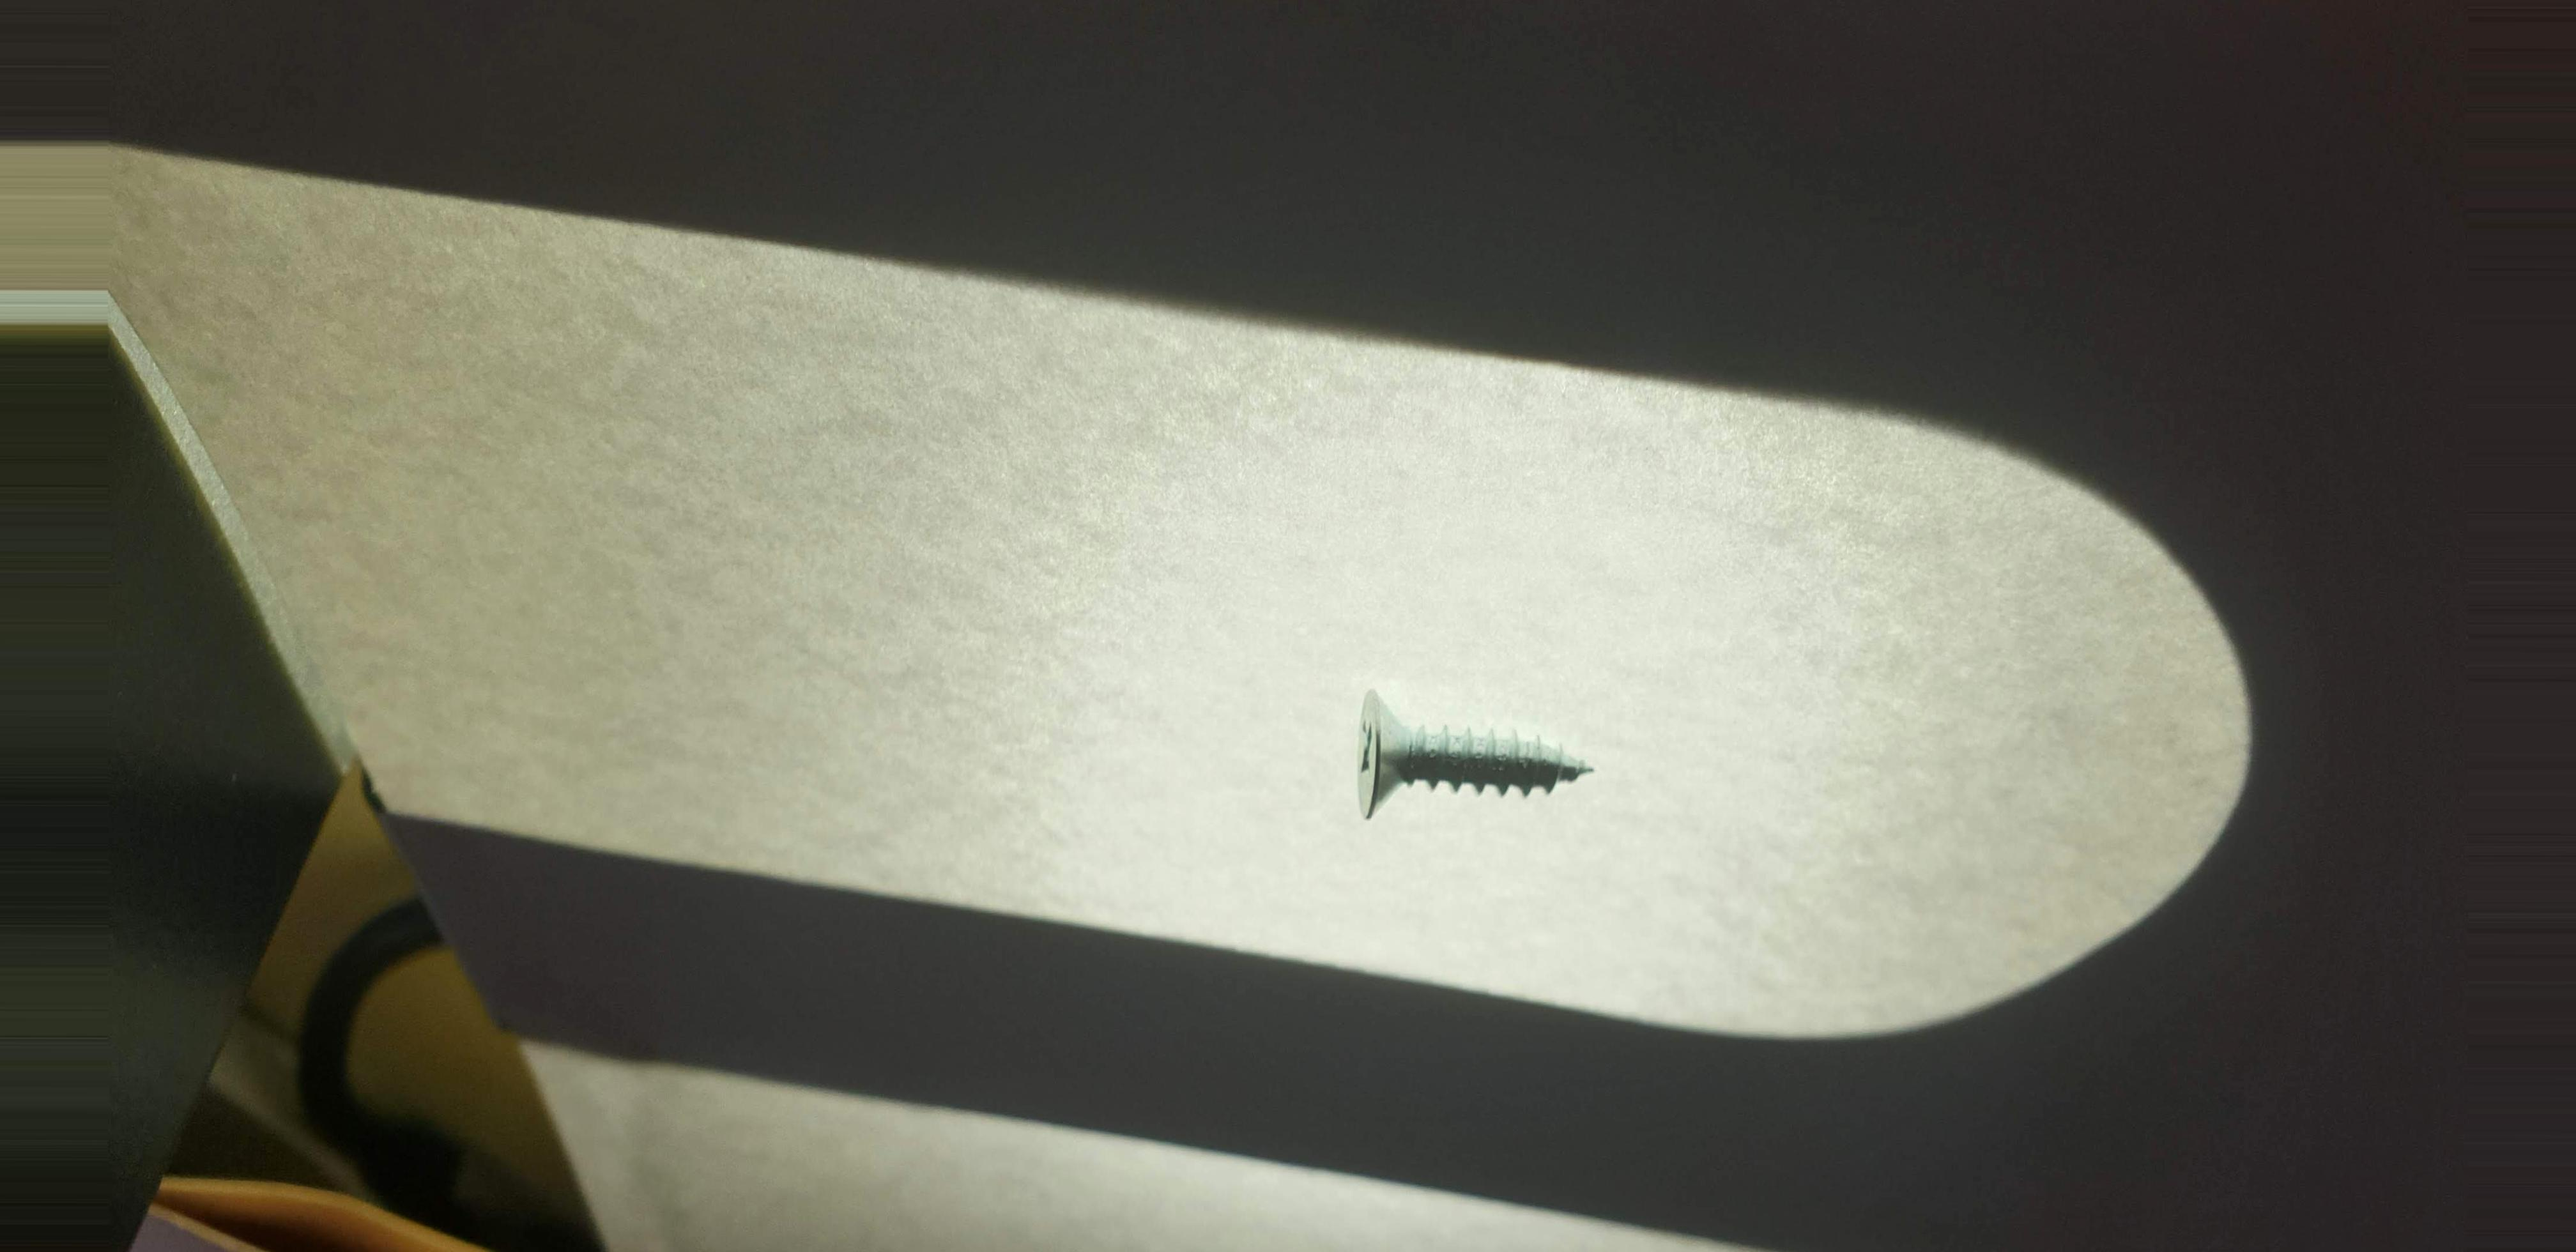S003: (1332, 669, 1631, 841)
